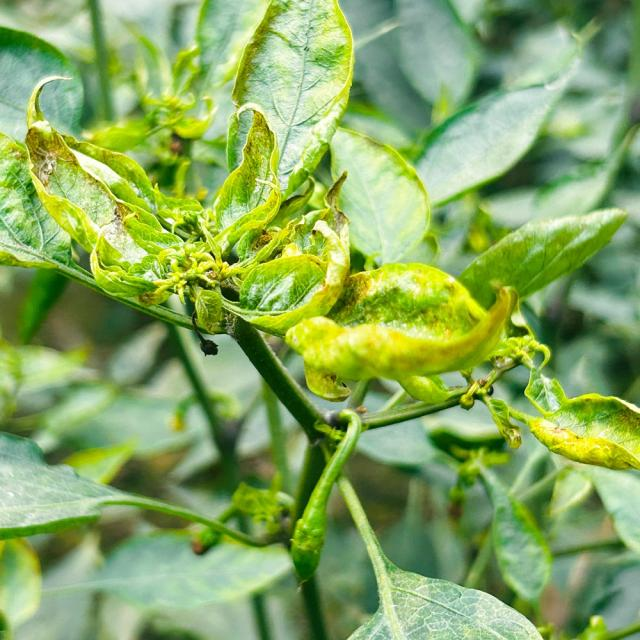Chilli_Leaf_Curl: (1, 0, 638, 638), (334, 470, 544, 638), (283, 260, 518, 406), (227, 0, 355, 202), (456, 206, 628, 316), (218, 213, 351, 337), (326, 124, 432, 267), (287, 407, 362, 584), (520, 373, 639, 471), (210, 102, 282, 254)
